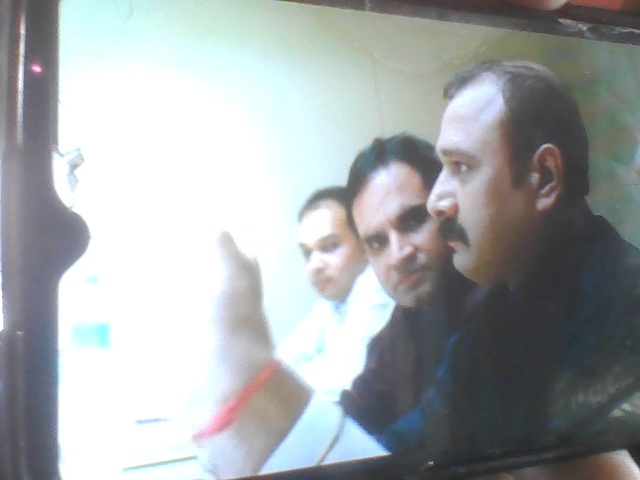fake: (393, 73, 552, 299)
